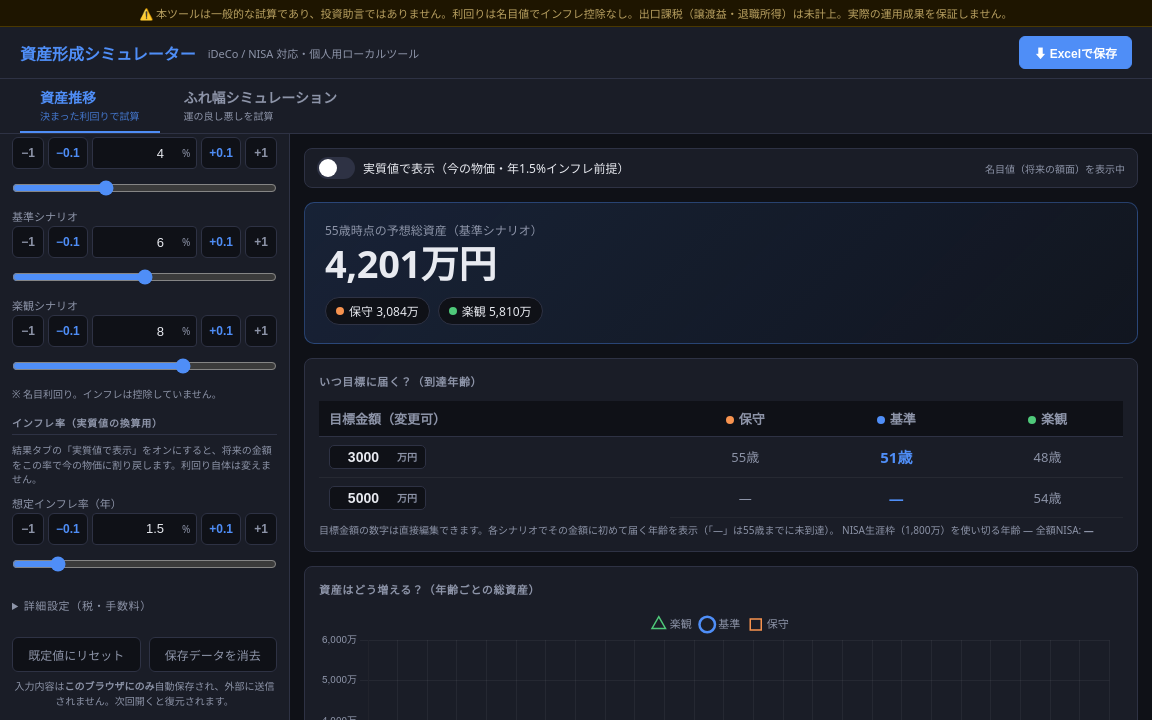
App 結合テスト › 「保存データを消去」で既定値（終了60歳）に戻る
(page scrolled)
Expected: the text "55歳時点の予想総資産（基準シナリオ）" is shown, [325,222,543,239]
Click the button "保存データを消去" at point(213, 654), box [148,636,277,672]
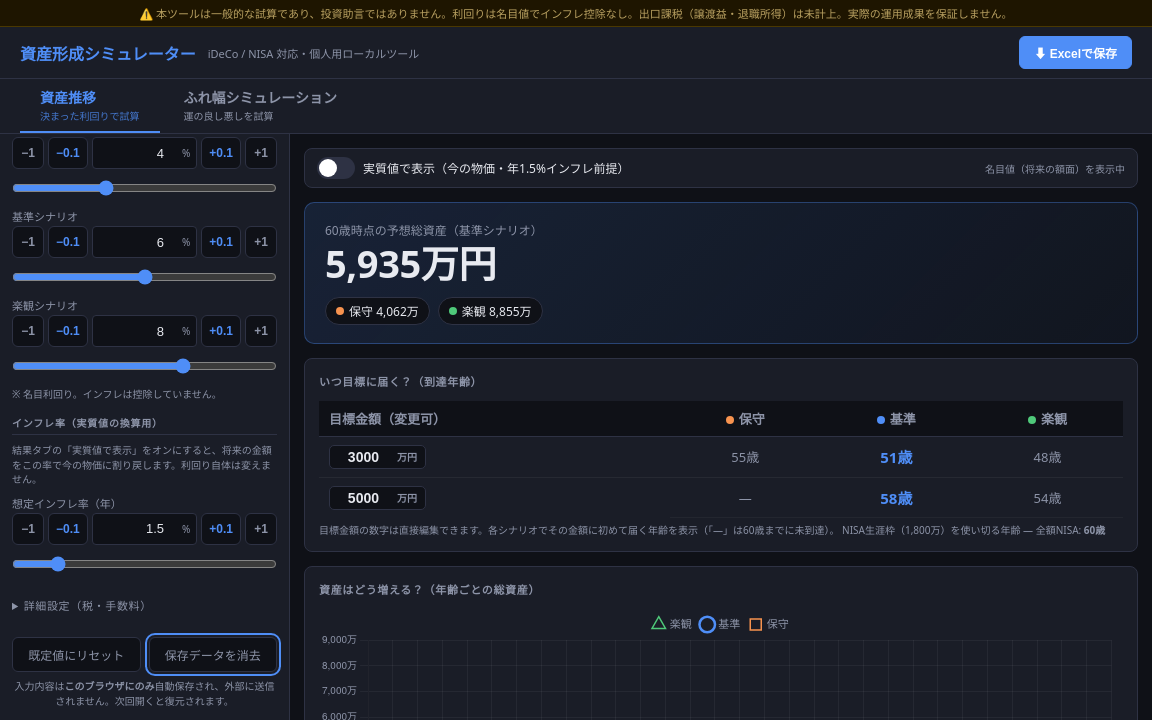
Now the text "60歳時点の予想総資産（基準シナリオ）" is shown, box [325,222,543,239]
